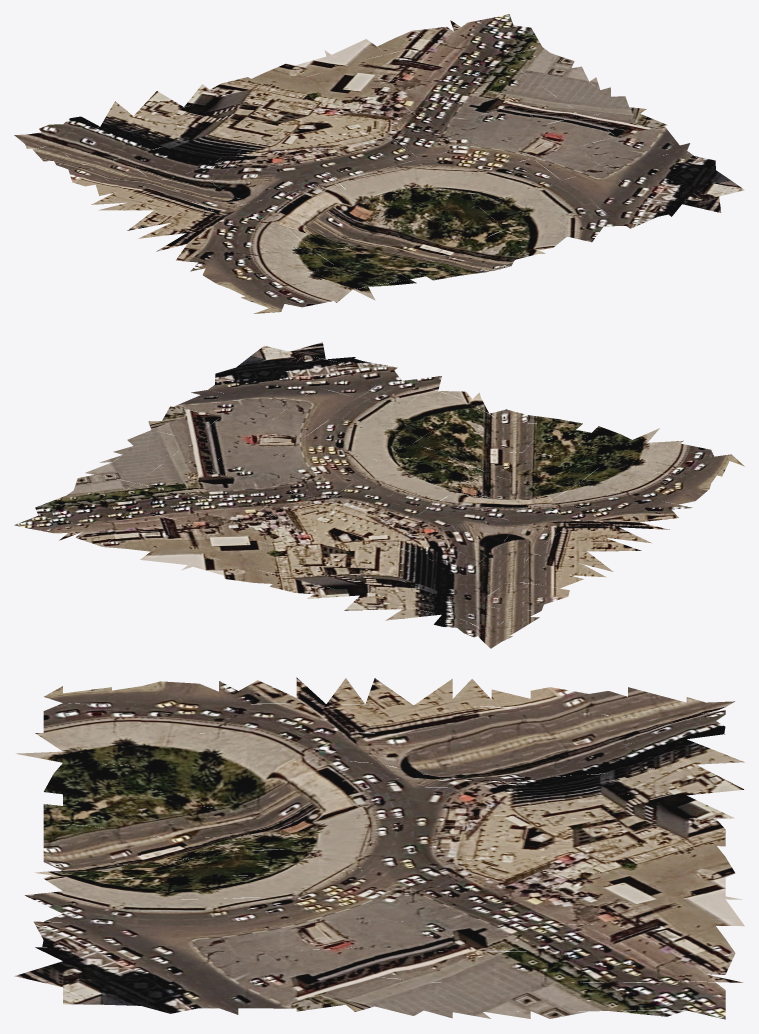
The model's file is tahrir_square_aleph_mesh.glb.
The picture shows the model from 3 angles, top to bottom: view 1: azimuth 30°, elevation 25°; view 2: azimuth 150°, elevation 25°; view 3: azimuth 270°, elevation 25°; orthographic projection. The views are drawn at different scales.
Parts seen in each view (by area): view 1: 30435373706341624056, 30435373706341625064; view 2: 30435373706341624056, 30435373706341625064; view 3: 30435373706341624056, 30435373706341625064.
Boxes of the visible parts, x1,y1,x2,y2 form: 30435373706341624056: [14, 16, 744, 313]; 30435373706341625064: [499, 14, 715, 169]; 30435373706341624056: [24, 342, 744, 648]; 30435373706341625064: [14, 368, 234, 527]; 30435373706341624056: [14, 677, 744, 1012]; 30435373706341625064: [142, 1004, 725, 1019].
Size of the model in its own units: 195 by 8.19 by 179.
34 materials, 34 textured.
